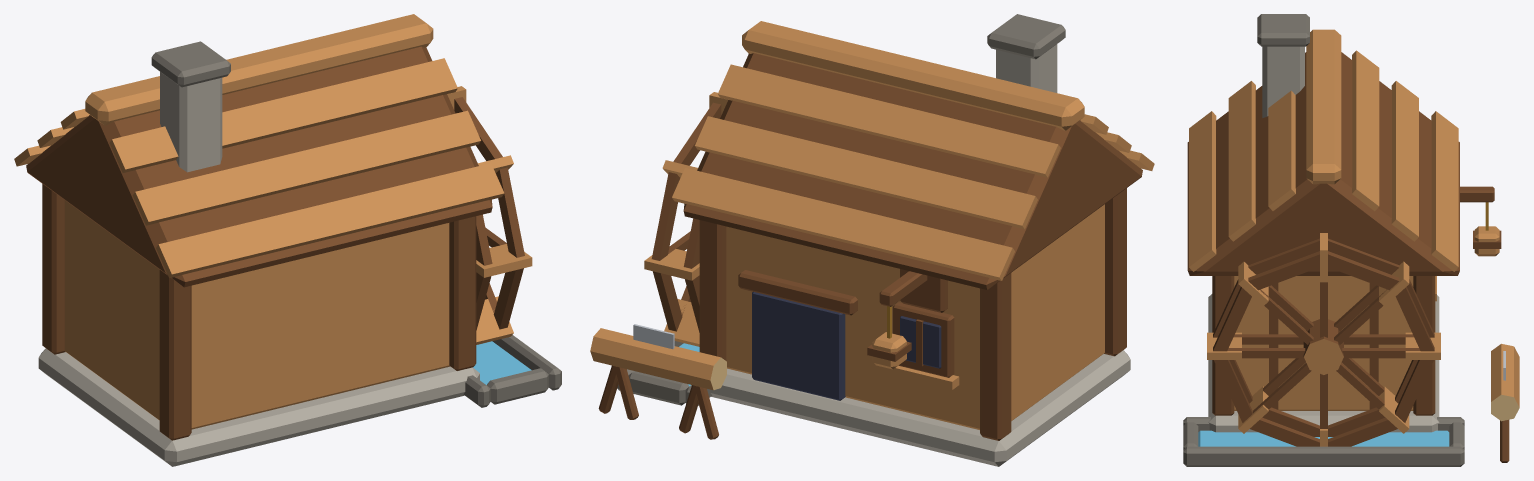
The model's file is sawmill_l2.fbx.
The picture shows the model from 3 angles, left to right: view 1: azimuth 30°, elevation 25°; view 2: azimuth 150°, elevation 25°; view 3: azimuth 270°, elevation 25°; orthographic projection. The views are drawn at different scales.
Visible parts, largest first — view 1: sawmill_l2, Wheel; view 2: sawmill_l2, Wheel; view 3: sawmill_l2, Wheel.
Boxes of the visible parts, x1,y1,x2,y2 form: sawmill_l2: (14, 14, 561, 466); Wheel: (447, 86, 532, 344); sawmill_l2: (590, 14, 1154, 466); Wheel: (644, 92, 727, 346); sawmill_l2: (1183, 14, 1519, 466); Wheel: (1207, 233, 1440, 446).
Bounding box in the file's own units: 0.921 × 0.8316 × 0.804.
